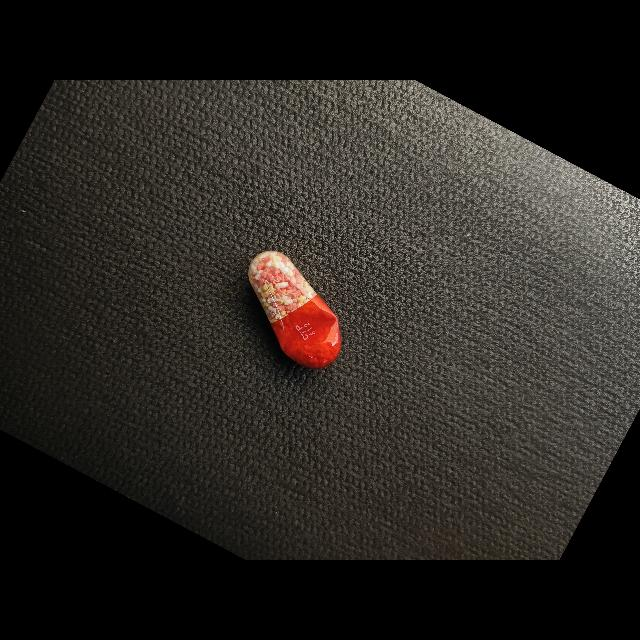Defective Capsule: (248, 251, 342, 369)
